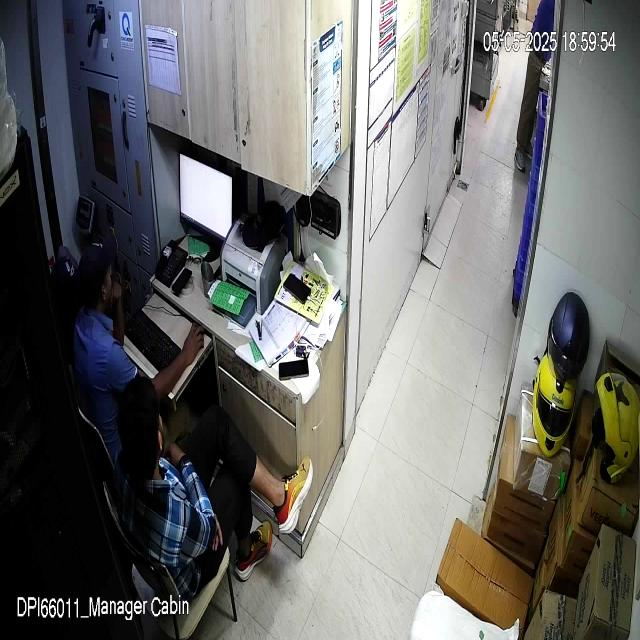helmet: (593, 372, 640, 484), (532, 356, 577, 457), (548, 291, 590, 385)
